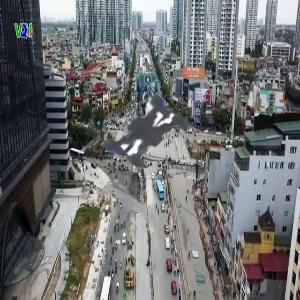drone: (40, 27, 243, 230)
